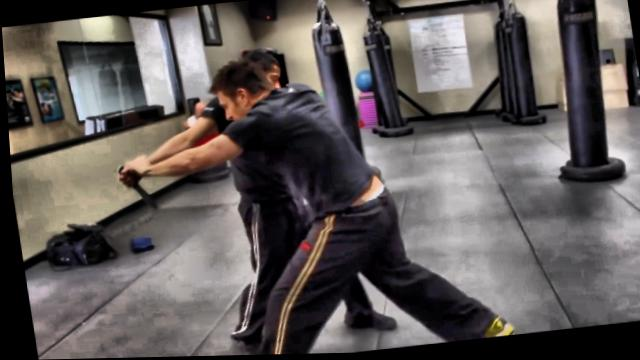knife: (112, 162, 158, 216)
